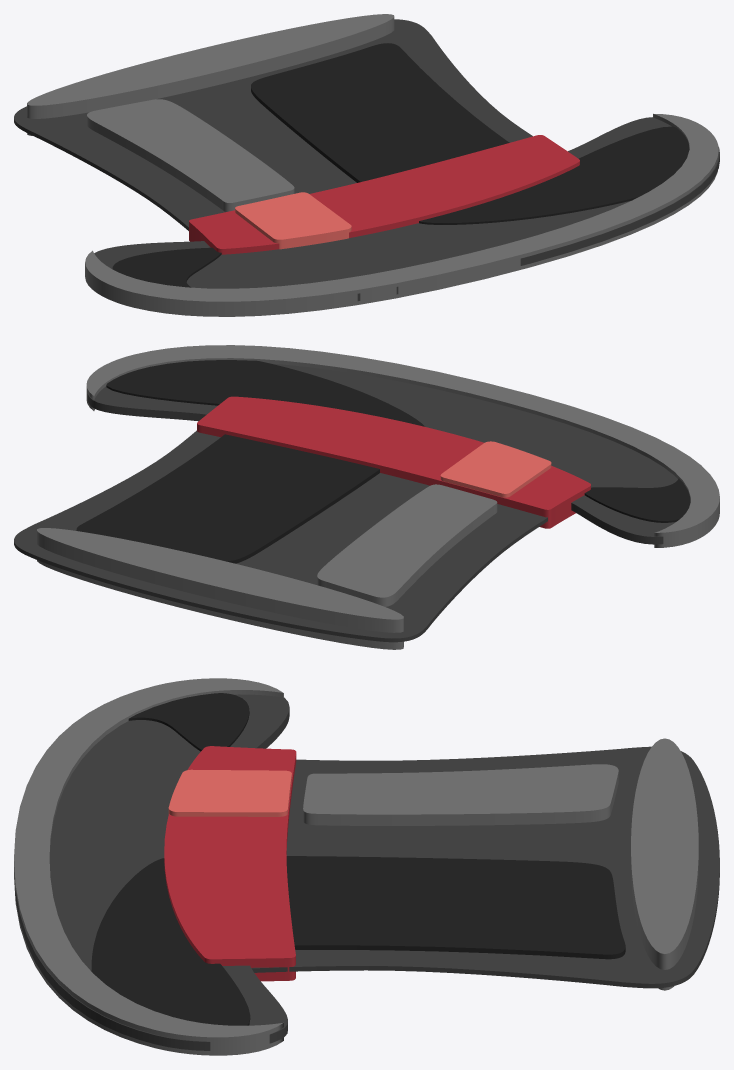
The model's file is emoji_u1f3a9.glb.
3 renders of one model, top to bottom at view 1: azimuth 30°, elevation 25°; view 2: azimuth 150°, elevation 25°; view 3: azimuth 270°, elevation 25°, orthographic. The views are drawn at different scales.
Parts seen in each view (by area): view 1: emoji_u1f3a9; view 2: emoji_u1f3a9; view 3: emoji_u1f3a9.
Part boxes in pixels (x1,y1,x2,y2): emoji_u1f3a9: (14,14,719,316); emoji_u1f3a9: (14,345,719,649); emoji_u1f3a9: (14,678,719,1055).
Size of the model in its own units: 0.0338 by 0.0016 by 0.028.
